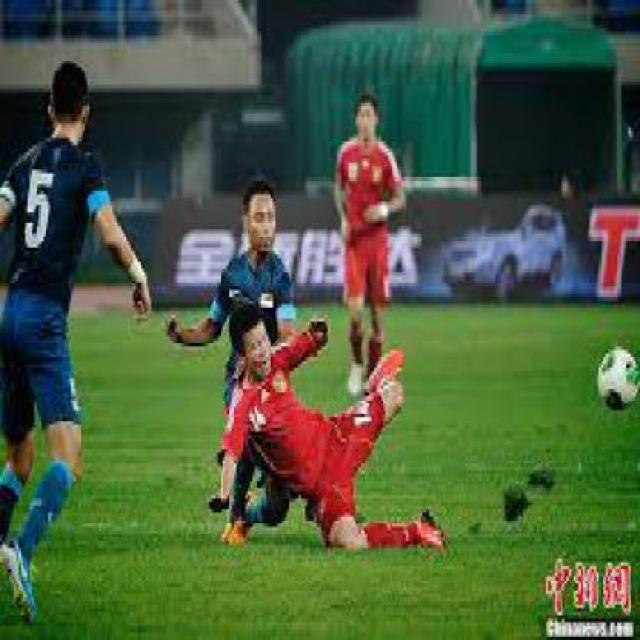fall: (211, 297, 440, 558)
